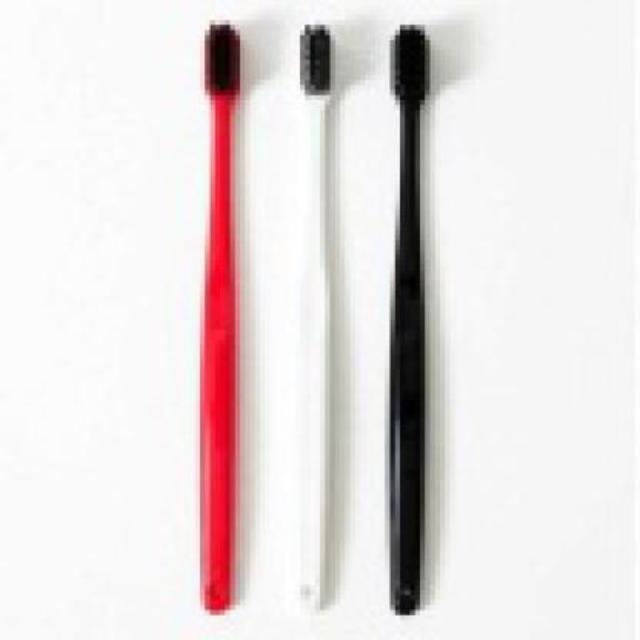toothbrush: (190, 18, 446, 604)
